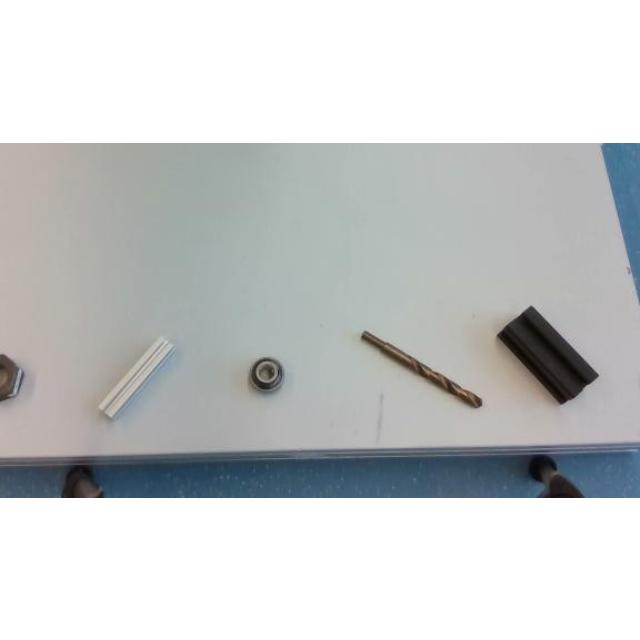Bearing2: (250, 356, 282, 389)
Drill: (362, 330, 482, 406)
F20_20_G: (98, 337, 174, 418)
M30: (1, 352, 23, 400)
S40_40_B: (498, 306, 596, 402)
